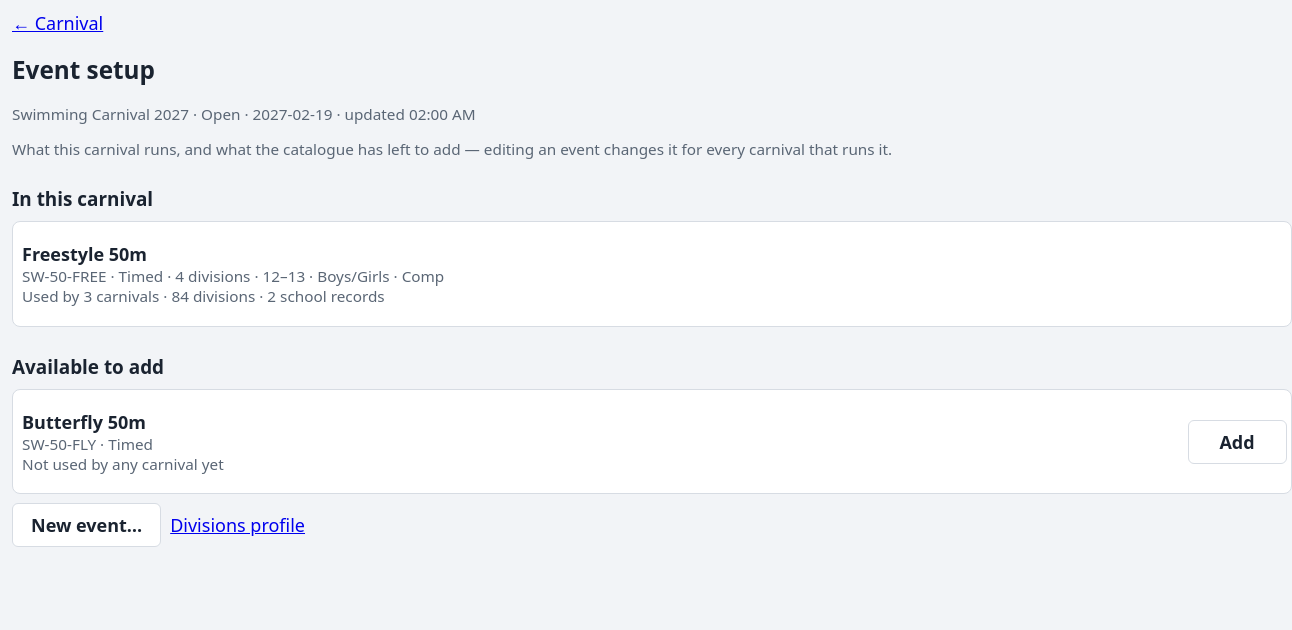
EventSetupScreen — Available to add (ADR-0059) › shows the server's refusal beside the row and adds nothing
What coordinates should you click on to do the following:
click the button with aria-label "Add Butterfly 50m"
I would click on:
 (1237, 442)
Its box is [1188,420,1286,464].
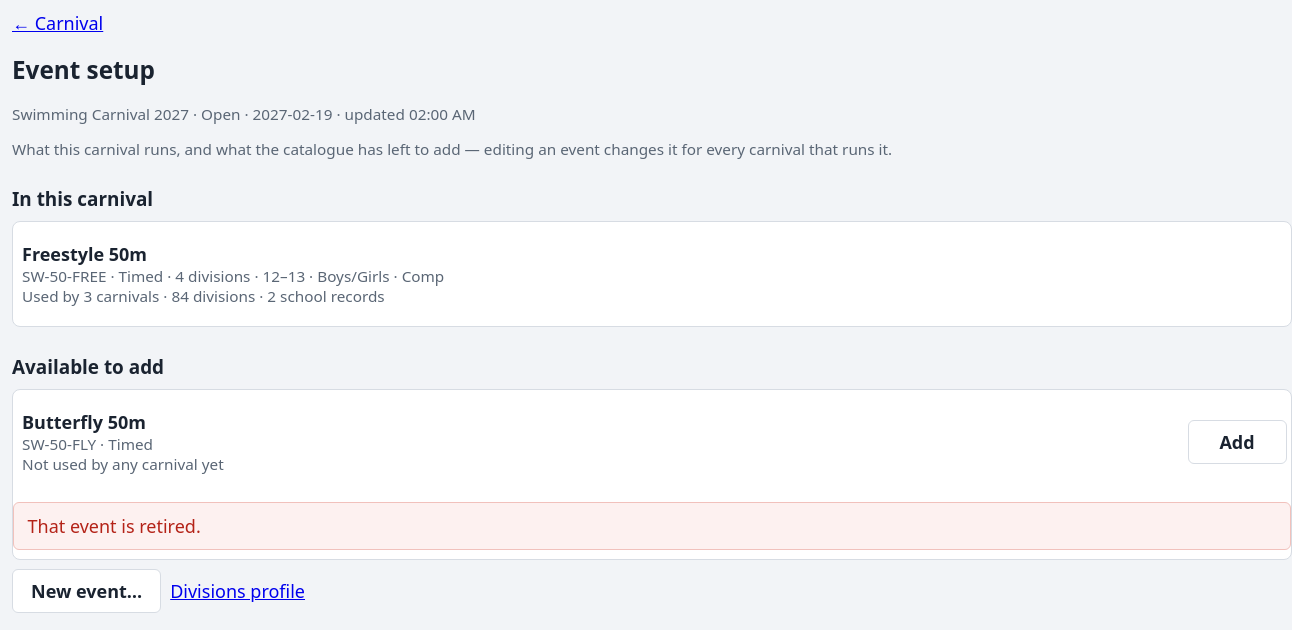
Check: the list item that starts with "Butterfly 50m" is shown, box [18,401,1178,483]
Check: the message reads "That event is retired.", box [28,514,201,538]
